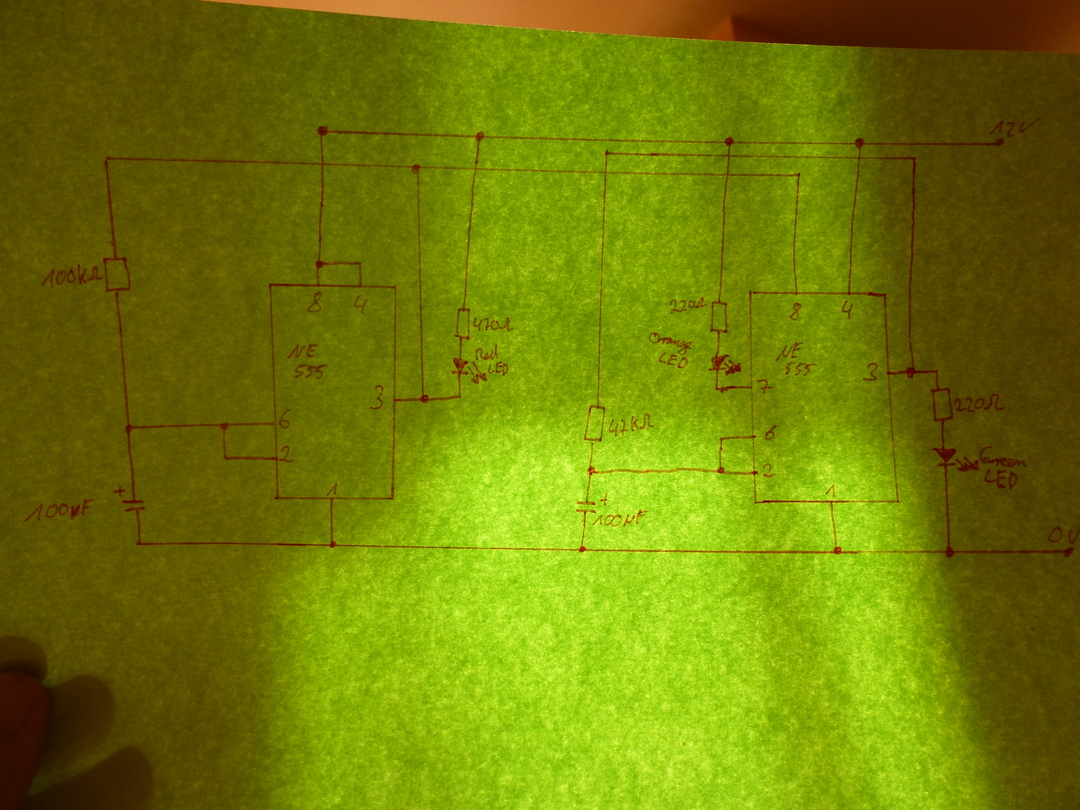capacitor.polarized: (112, 485, 147, 513), (575, 492, 609, 516)
crossover: (723, 170, 734, 180), (471, 163, 481, 174), (318, 158, 328, 168), (601, 168, 611, 177), (855, 153, 865, 162), (725, 151, 734, 161)
diode.light_emitting: (932, 447, 979, 472), (451, 357, 488, 385), (707, 354, 742, 376)
integrated_cricuit.ne555: (747, 289, 901, 504), (268, 282, 398, 502)
junction: (942, 545, 958, 560), (316, 123, 330, 137), (831, 545, 846, 558), (905, 365, 918, 380), (585, 464, 598, 479), (853, 136, 866, 150), (723, 135, 736, 148), (473, 130, 486, 143), (576, 544, 589, 556), (326, 539, 339, 551), (410, 163, 422, 175), (419, 393, 431, 405), (715, 465, 727, 477), (314, 258, 325, 270), (910, 153, 921, 164), (931, 366, 942, 377), (218, 421, 230, 431), (133, 539, 145, 549), (124, 423, 134, 434), (795, 169, 804, 180), (356, 258, 365, 268), (603, 148, 612, 158), (102, 155, 111, 164), (713, 384, 722, 393), (716, 435, 726, 443), (221, 454, 230, 462), (455, 392, 464, 400)
resistor: (102, 254, 133, 295), (583, 404, 607, 443), (930, 385, 954, 423), (709, 299, 729, 334), (454, 306, 471, 341)
terminal: (1061, 546, 1076, 560), (991, 138, 1007, 150)
text: (978, 445, 1028, 490), (23, 499, 93, 523), (648, 332, 693, 369), (287, 343, 328, 380), (774, 341, 816, 377), (41, 264, 103, 288), (474, 343, 509, 377), (608, 413, 655, 437), (988, 116, 1040, 137), (954, 393, 1005, 413), (592, 510, 648, 528), (669, 296, 707, 314), (1046, 525, 1080, 544), (472, 316, 512, 332), (861, 361, 880, 383), (369, 384, 385, 410), (352, 293, 370, 316), (306, 290, 323, 314), (840, 299, 855, 320), (757, 378, 774, 395), (279, 445, 294, 464), (278, 408, 291, 429), (788, 300, 801, 321), (763, 424, 778, 442), (761, 462, 776, 478), (825, 483, 838, 498), (326, 482, 338, 497)
